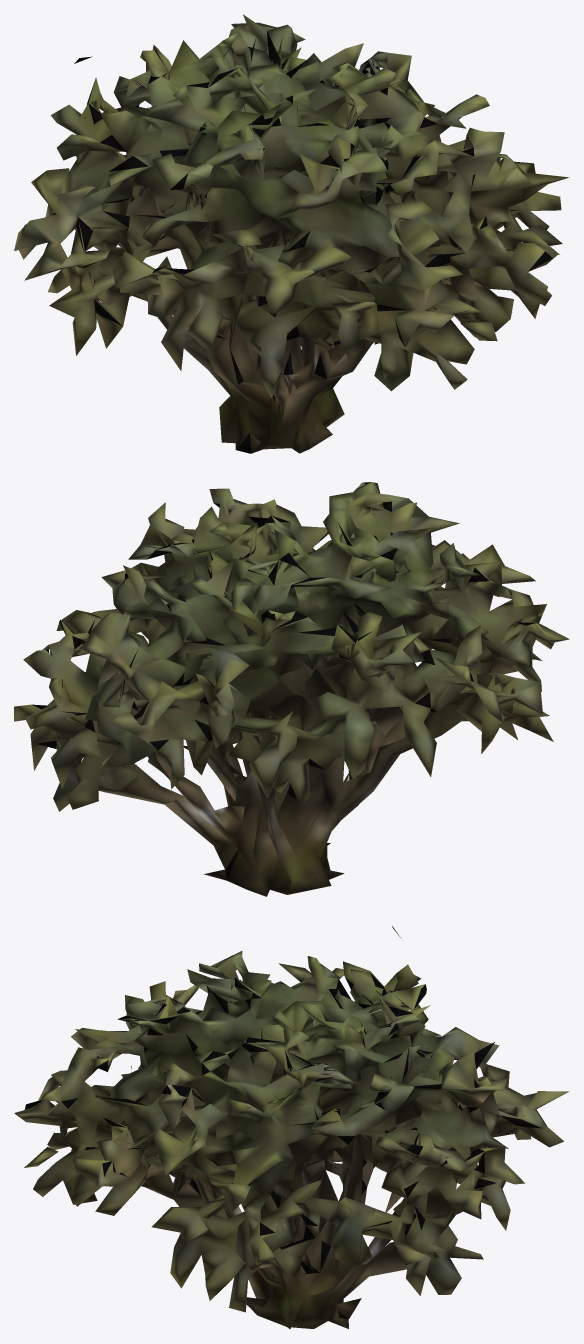
The model's file is shrub.glb.
3 renders of one model, top to bottom at view 1: azimuth 30°, elevation 25°; view 2: azimuth 150°, elevation 25°; view 3: azimuth 270°, elevation 25°, orthographic. The views are drawn at different scales.
Visible parts, largest first — view 1: MV_shrub; view 2: MV_shrub; view 3: MV_shrub.
Boxes of the visible parts, x1,y1,x2,y2 form: MV_shrub: (14,14,569,453); MV_shrub: (14,482,569,896); MV_shrub: (14,926,569,1328).
Size of the model in its own units: 1.13 by 0.78 by 1.19.
Materials: 1 (1 with a texture image).
